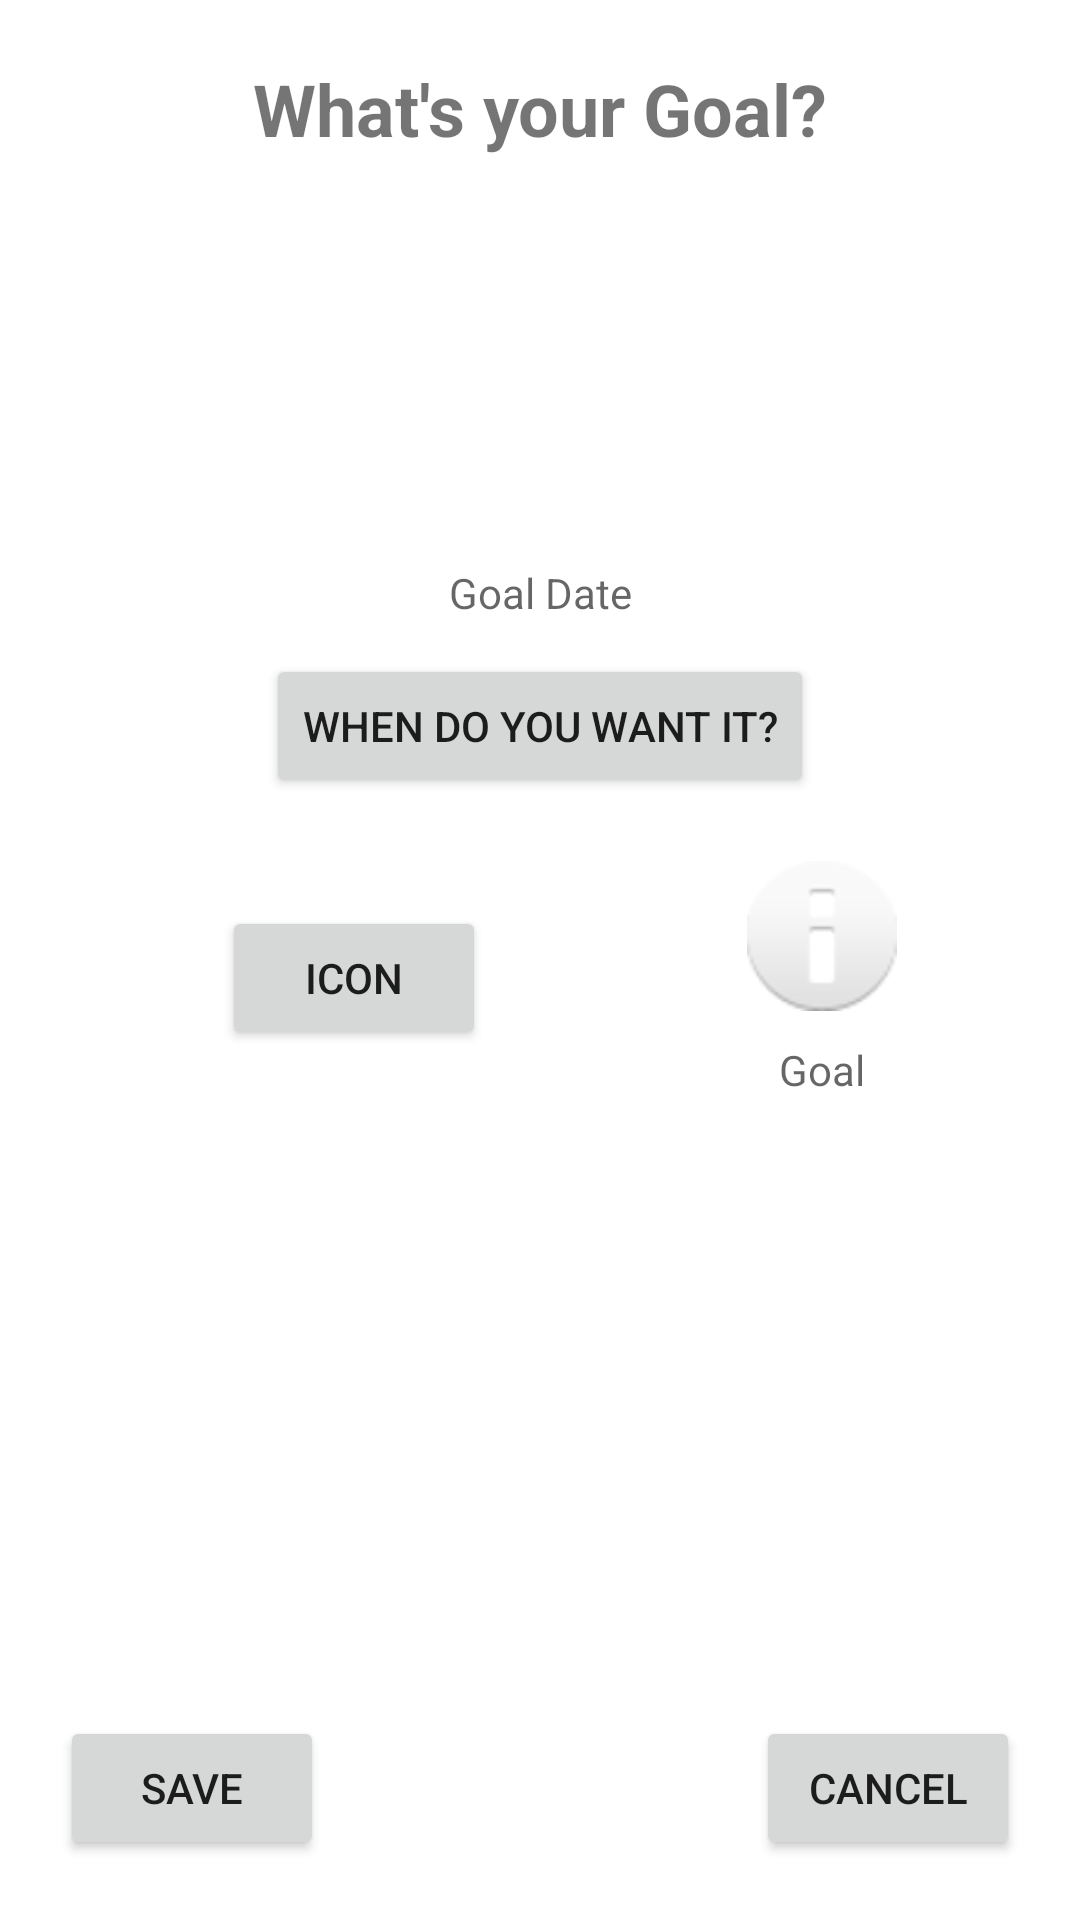

Icon bounding boxes for this 1080x1920 phone screenshot, format (x1, y1, x2, y2):
info: (747, 888, 897, 1011)
